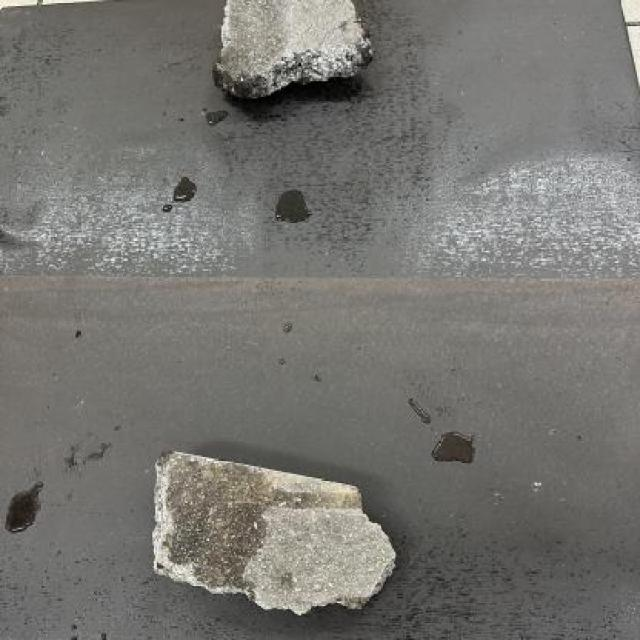Road Debris: (162, 450, 270, 604), (214, 0, 291, 82), (272, 486, 368, 520)
